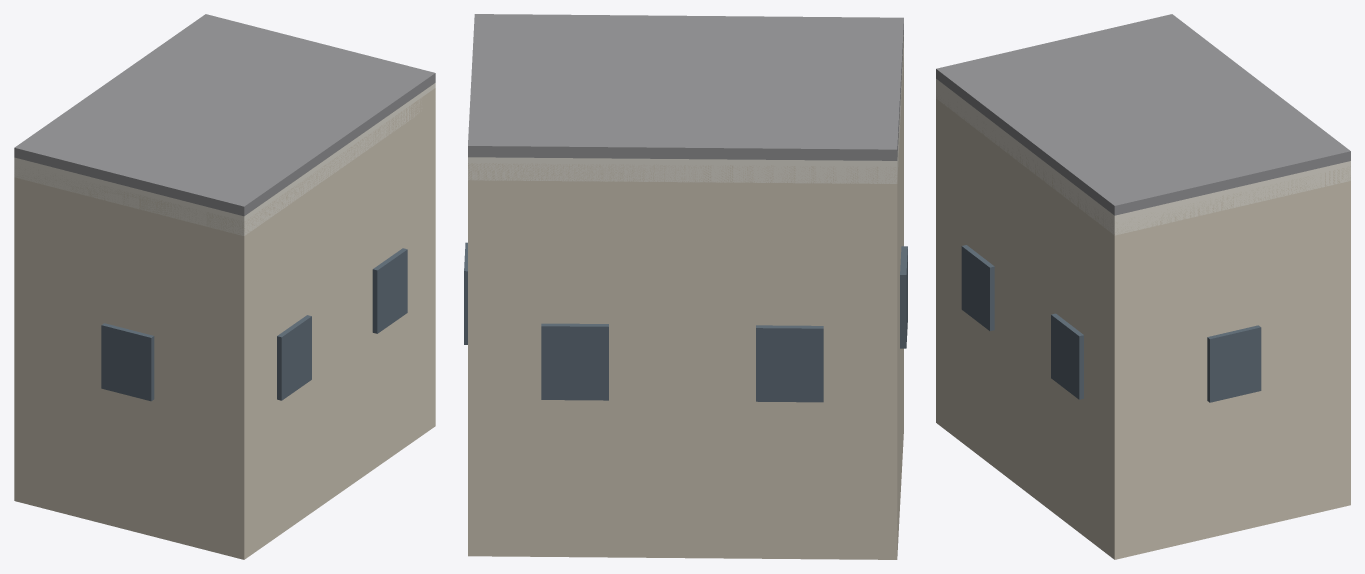
File: s40_tile_tile__1_0_23.glb
3 renders of one model, left to right at view 1: azimuth 30°, elevation 25°; view 2: azimuth 150°, elevation 25°; view 3: azimuth 270°, elevation 25°, orthographic. The views are drawn at different scales.
Visible parts, largest first — view 1: mass, roofcap, cornice, win_1_0_0, win_2_0_1, win_2_0_0; view 2: mass, roofcap, cornice, win_0_0_0, win_0_0_1, win_1_0_0; view 3: mass, roofcap, cornice, win_3_0_0, win_2_0_0, win_2_0_1.
Boxes of the visible parts, bbox=[...] form: mass: bbox=[14, 88, 435, 559]; roofcap: bbox=[14, 14, 435, 216]; cornice: bbox=[14, 83, 435, 235]; win_1_0_0: bbox=[101, 323, 154, 401]; win_2_0_1: bbox=[372, 248, 407, 333]; win_2_0_0: bbox=[277, 315, 311, 400]; mass: bbox=[468, 45, 903, 559]; roofcap: bbox=[468, 14, 903, 160]; cornice: bbox=[468, 35, 903, 183]; win_0_0_0: bbox=[541, 323, 608, 400]; win_0_0_1: bbox=[756, 325, 823, 402]; win_1_0_0: bbox=[900, 246, 907, 348]; mass: bbox=[936, 96, 1350, 559]; roofcap: bbox=[936, 14, 1350, 215]; cornice: bbox=[936, 79, 1350, 235]; win_3_0_0: bbox=[1207, 325, 1261, 402]; win_2_0_0: bbox=[961, 245, 994, 330]; win_2_0_1: bbox=[1051, 313, 1083, 399].
Bounding box in the file's own units: 9.71 × 8.35 × 8.87.
